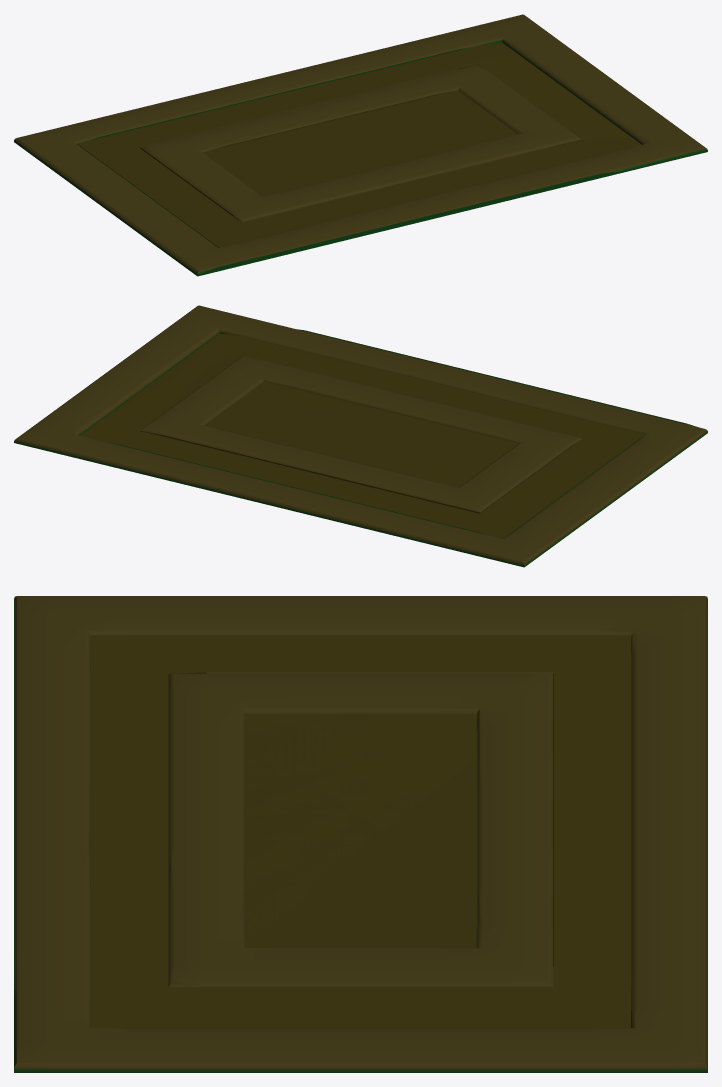
File: tapete2.fbx
3 views of the same model, one above another, from view 1: azimuth 30°, elevation 25°; view 2: azimuth 150°, elevation 25°; view 3: azimuth 270°, elevation 25° (orthographic). The views are drawn at different scales.
Parts seen in each view (by area): view 1: Plane; view 2: Plane; view 3: Plane.
Part boxes in pixels (bbox=[...]): Plane: bbox=[14, 14, 707, 276]; Plane: bbox=[14, 305, 707, 567]; Plane: bbox=[14, 596, 707, 1072].
Size of the model in its own units: 321 by 3.16 by 200.
